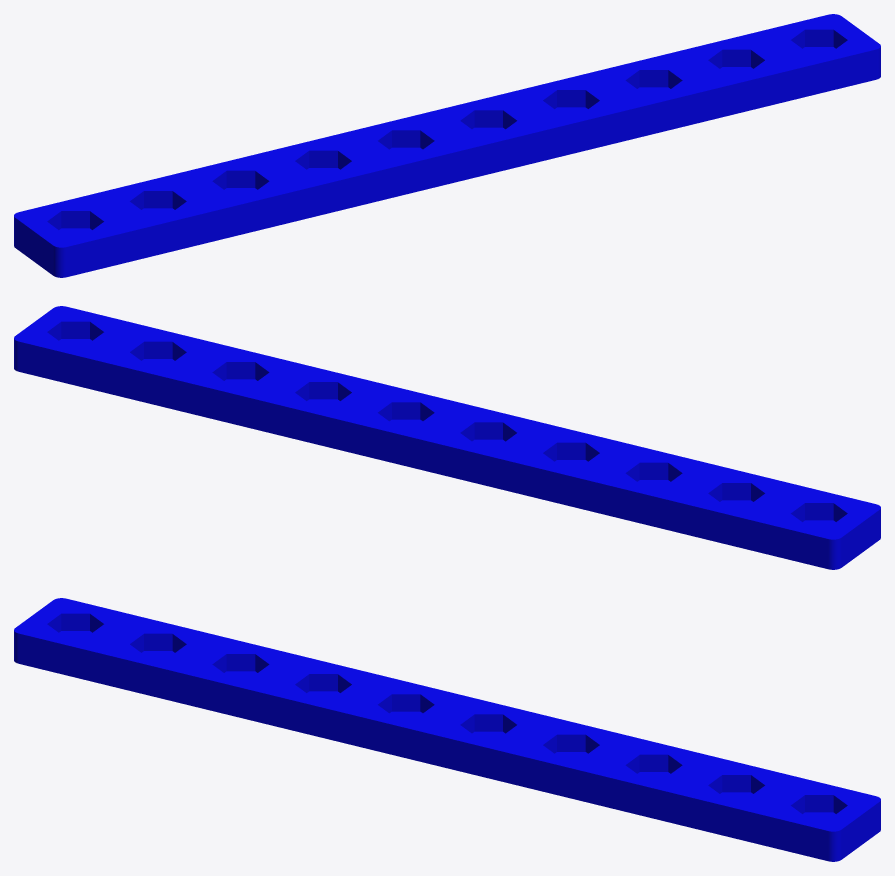
The model's file is S10_blue.glb.
3 renders of one model, top to bottom at view 1: azimuth 30°, elevation 25°; view 2: azimuth 150°, elevation 25°; view 3: azimuth 330°, elevation 25°, orthographic.
Visible parts, largest first — view 1: S10_blue; view 2: S10_blue; view 3: S10_blue.
Boxes of the visible parts, box(x1,y1,x2,y2) form: S10_blue: box(14, 14, 880, 277); S10_blue: box(14, 306, 880, 569); S10_blue: box(14, 598, 880, 861).
Bounding box in the file's own units: 0.1 × 0.0035 × 0.01.
